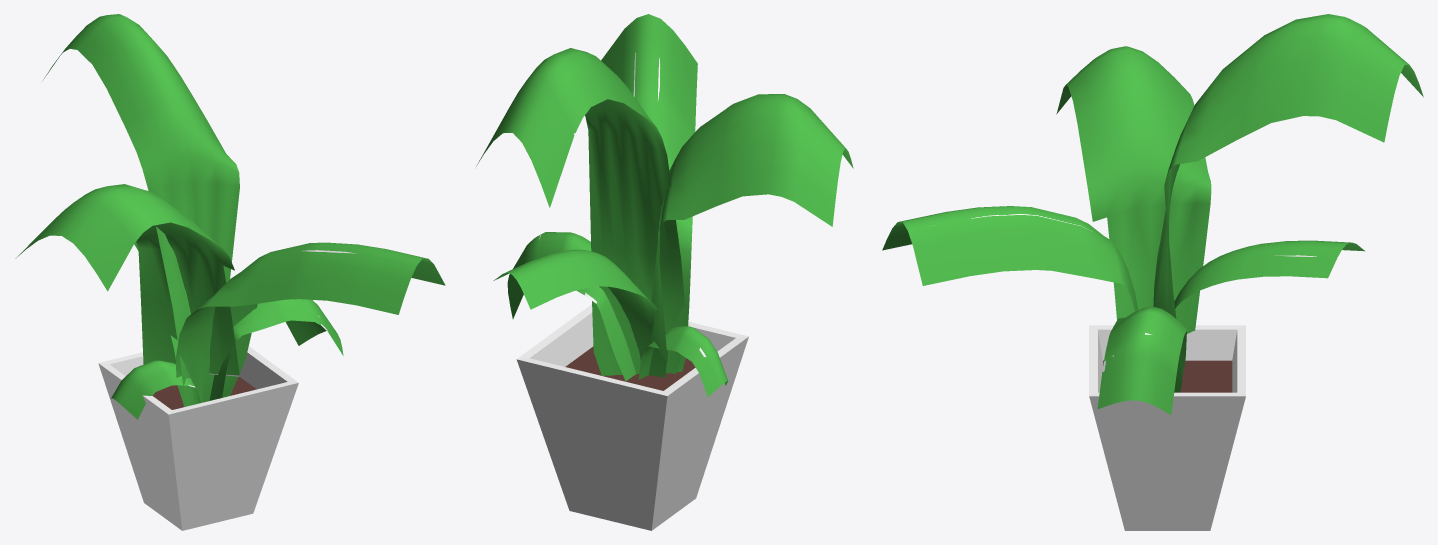
The model's file is smallPlant.fbx.
3 views of the same model, side by side, from view 1: azimuth 30°, elevation 25°; view 2: azimuth 150°, elevation 25°; view 3: azimuth 270°, elevation 25° (orthographic). The views are drawn at different scales.
Parts seen in each view (by area): view 1: Potted_Plant.001; view 2: Potted_Plant.001; view 3: Potted_Plant.001.
Part boxes in pixels (x1,y1,x2,y2): Potted_Plant.001: (15, 14, 445, 530); Potted_Plant.001: (476, 14, 853, 530); Potted_Plant.001: (882, 14, 1423, 530).
Bounding box in the file's own units: 0.6 × 0.8 × 0.8.
1 material, 1 textured.
